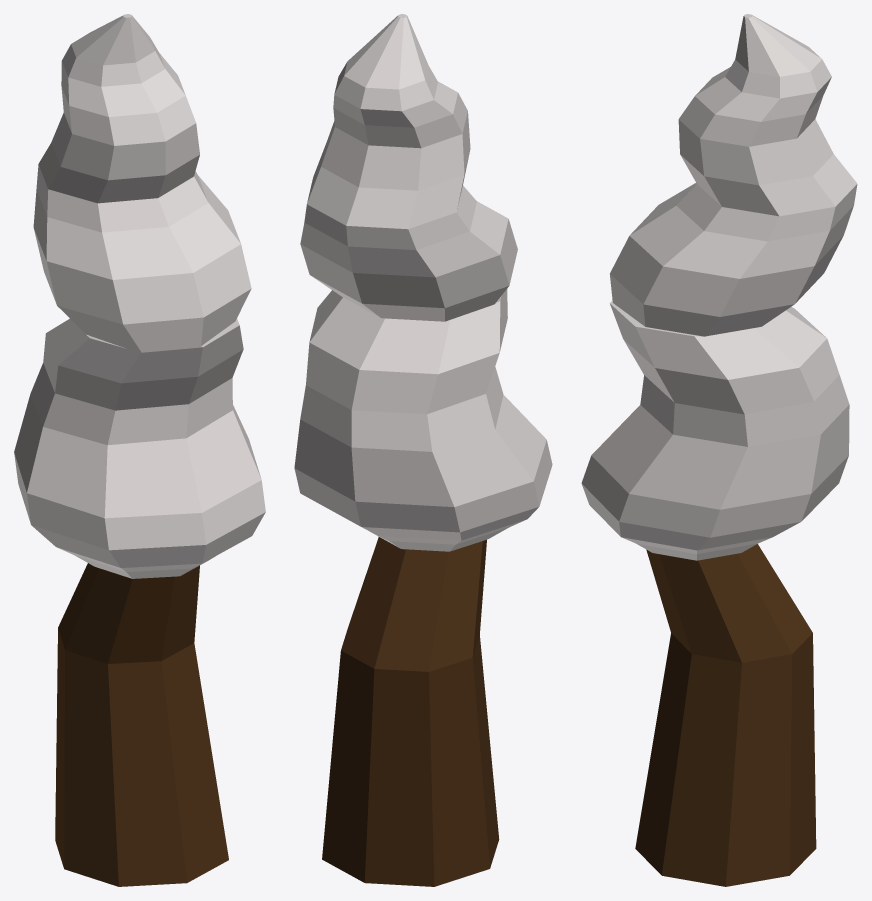
3 views of the same model, side by side, from view 1: azimuth 30°, elevation 25°; view 2: azimuth 150°, elevation 25°; view 3: azimuth 270°, elevation 25° (orthographic).
Parts seen in each view (by area): view 1: Cylinder, Cylinder.001; view 2: Cylinder, Cylinder.001; view 3: Cylinder, Cylinder.001.
Boxes of the visible parts, x1=… form: Cylinder: x1=14, y1=14, x2=265, y2=578; Cylinder.001: x1=55, y1=563, x2=228, y2=886; Cylinder: x1=294, y1=14, x2=552, y2=551; Cylinder.001: x1=322, y1=537, x2=499, y2=886; Cylinder: x1=581, y1=14, x2=857, y2=560; Cylinder.001: x1=635, y1=544, x2=816, y2=886.
Size of the model in its own units: 286 by 1013 by 305.
